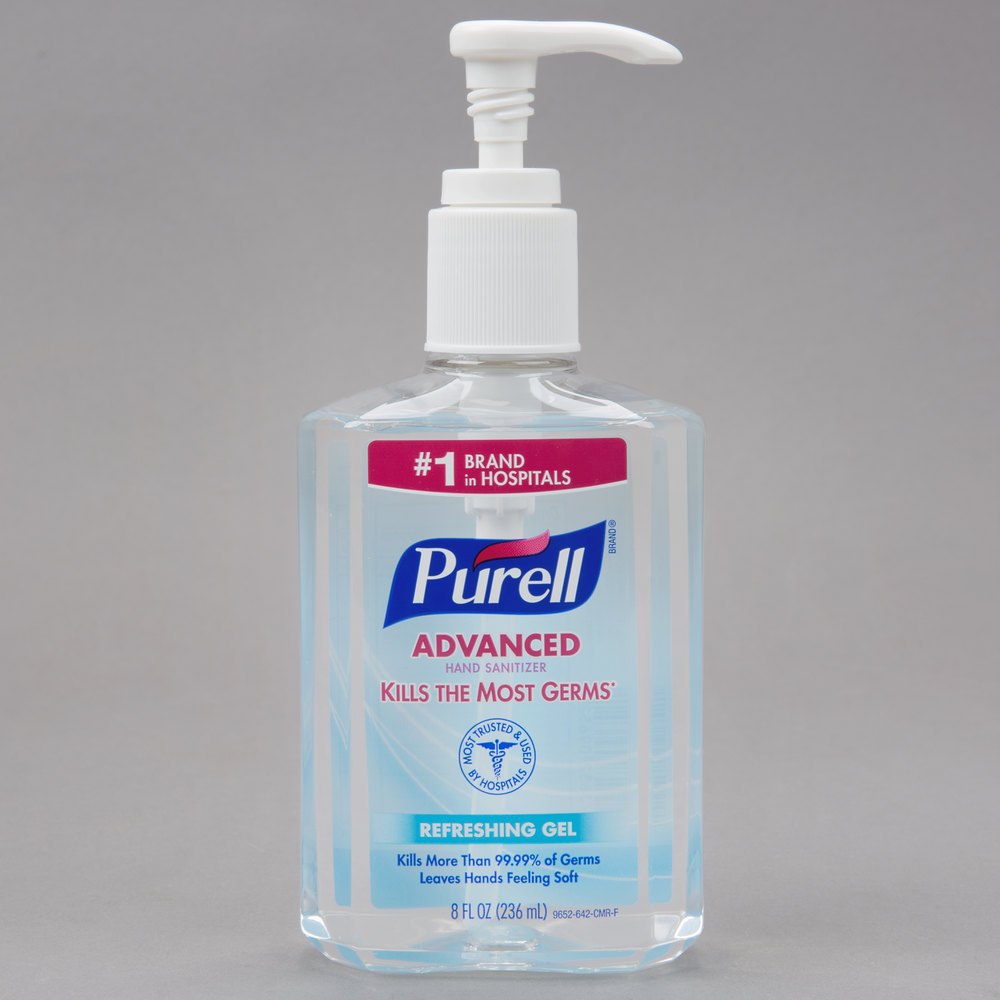Sanitizer: (290, 11, 721, 989)
